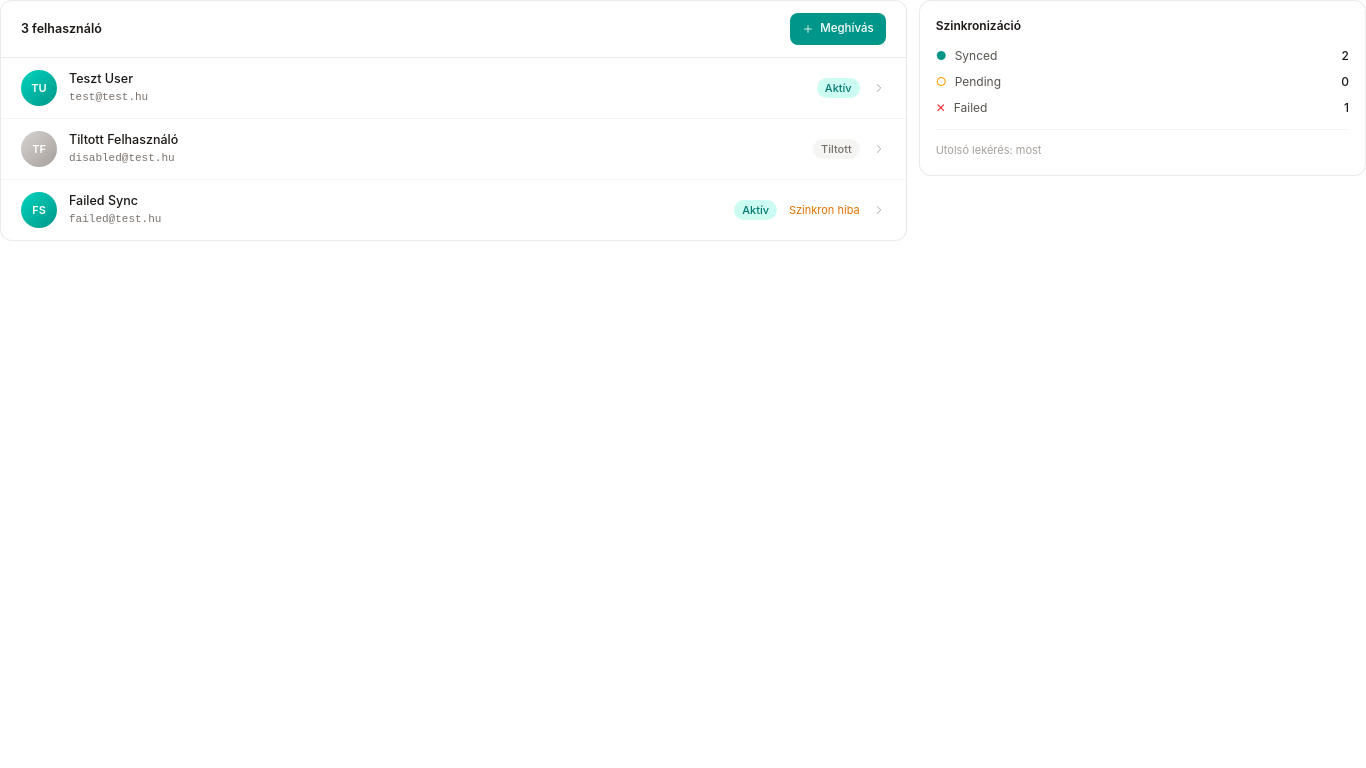
Test case: UsersPanel › opens InviteUserSlideOver when Meghívás clicked
Expected: the text "Teszt User" is shown, [69,71,133,86]
Step 1. Click the button "Meghívás" → {"x": 838, "y": 29}, box [790,13,886,45]
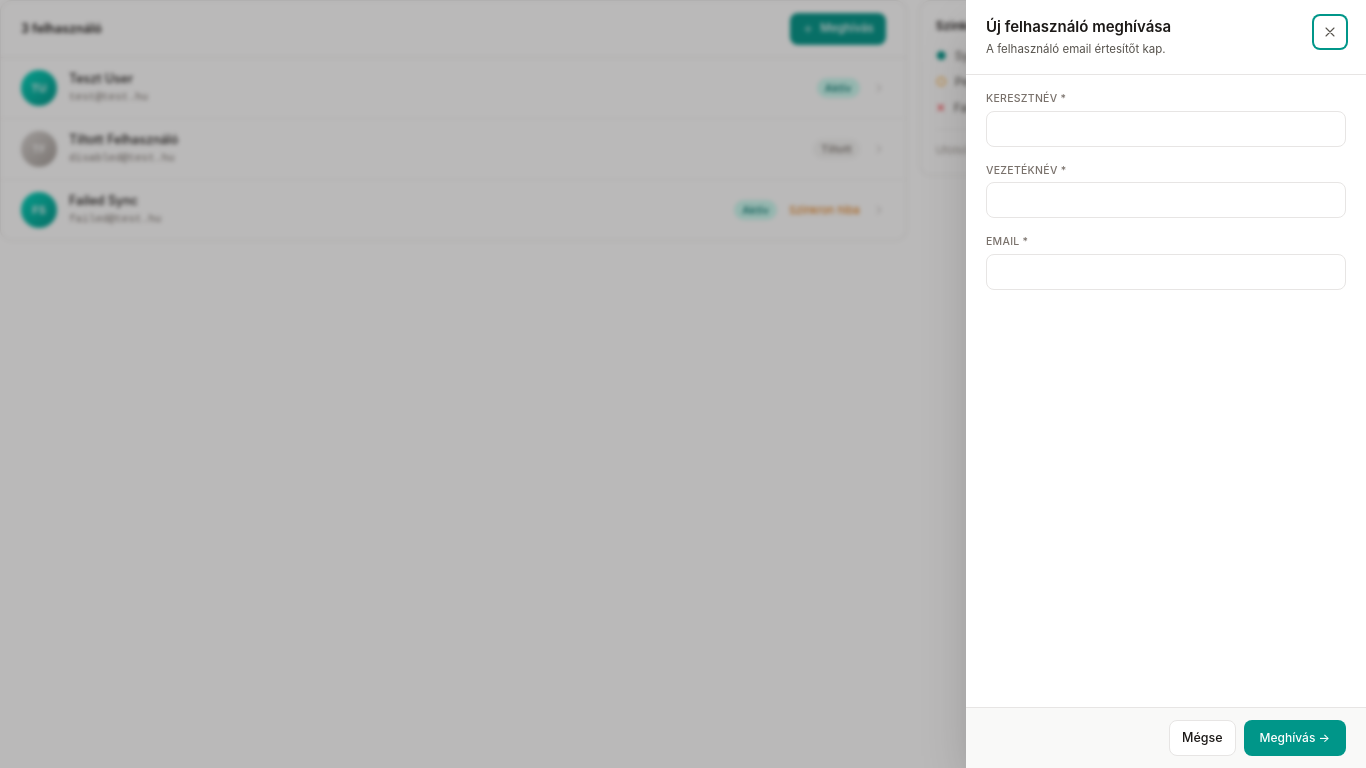
Now the text "Új felhasználó meghívása" is shown, box [986,17,1171,36]
